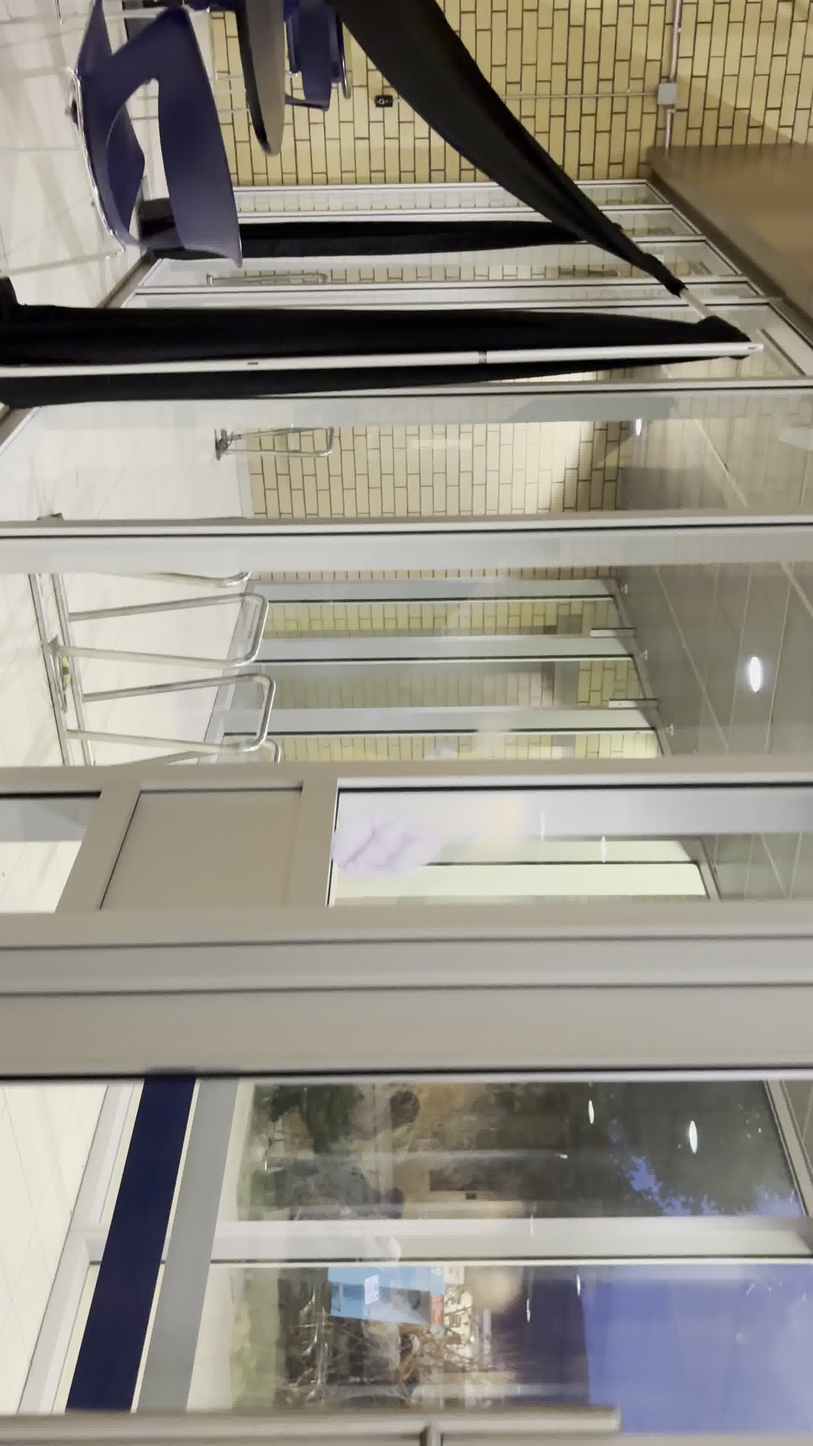Target: (329, 810, 446, 881)
